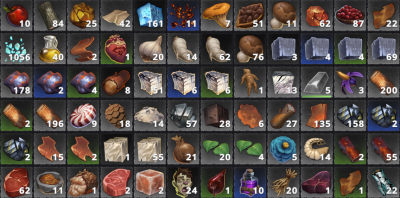ash log: (33, 1, 66, 31)
aurelium ore: (67, 1, 99, 31)
birch log: (367, 166, 400, 198)
chaos ember: (166, 1, 199, 31)
copper ore: (301, 1, 333, 31)
durable hide: (333, 166, 367, 198), (367, 1, 400, 31)
ethereal dust: (1, 33, 33, 65)
flexible hide: (67, 33, 100, 64)
granite stone: (266, 32, 300, 66), (300, 32, 334, 66), (367, 32, 400, 65), (334, 32, 367, 64)
iron ore: (1, 66, 33, 98), (34, 66, 66, 98), (67, 65, 98, 98)
limestone stone: (134, 65, 166, 98), (200, 66, 233, 98), (167, 66, 199, 98)
marble stone: (267, 66, 300, 97)
oak log: (367, 65, 400, 97), (1, 99, 33, 132), (34, 100, 66, 131)
silver ore: (166, 98, 199, 131)
slate stone: (200, 98, 233, 132)
soft hide: (234, 99, 266, 132)
spruce log: (268, 97, 301, 132)
strong hide: (301, 98, 333, 131)
tin ore: (367, 98, 400, 131), (334, 99, 367, 130), (1, 133, 34, 164)
tough hide: (34, 132, 67, 164), (67, 132, 99, 165)
travertine stone: (100, 132, 133, 165), (133, 132, 166, 165)
yew log: (333, 132, 367, 165), (367, 132, 400, 165)
